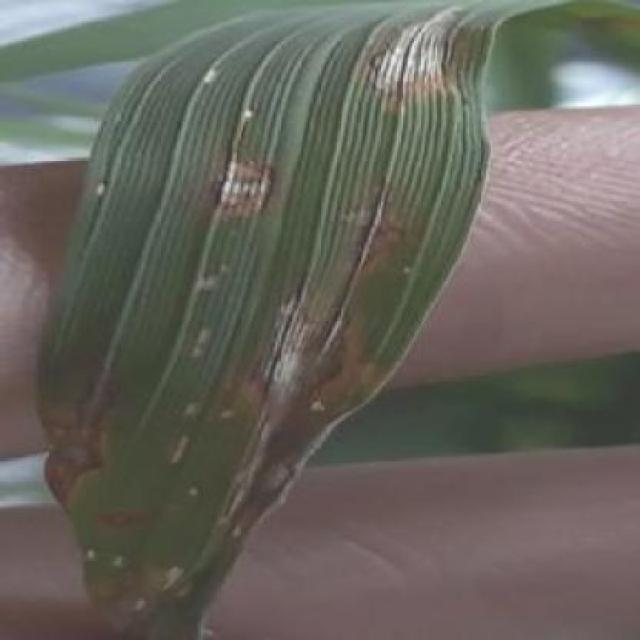Bacterial_Leaf_Blight: (212, 268, 385, 408), (364, 0, 491, 134), (6, 375, 105, 496), (198, 137, 294, 229), (94, 489, 158, 536)
